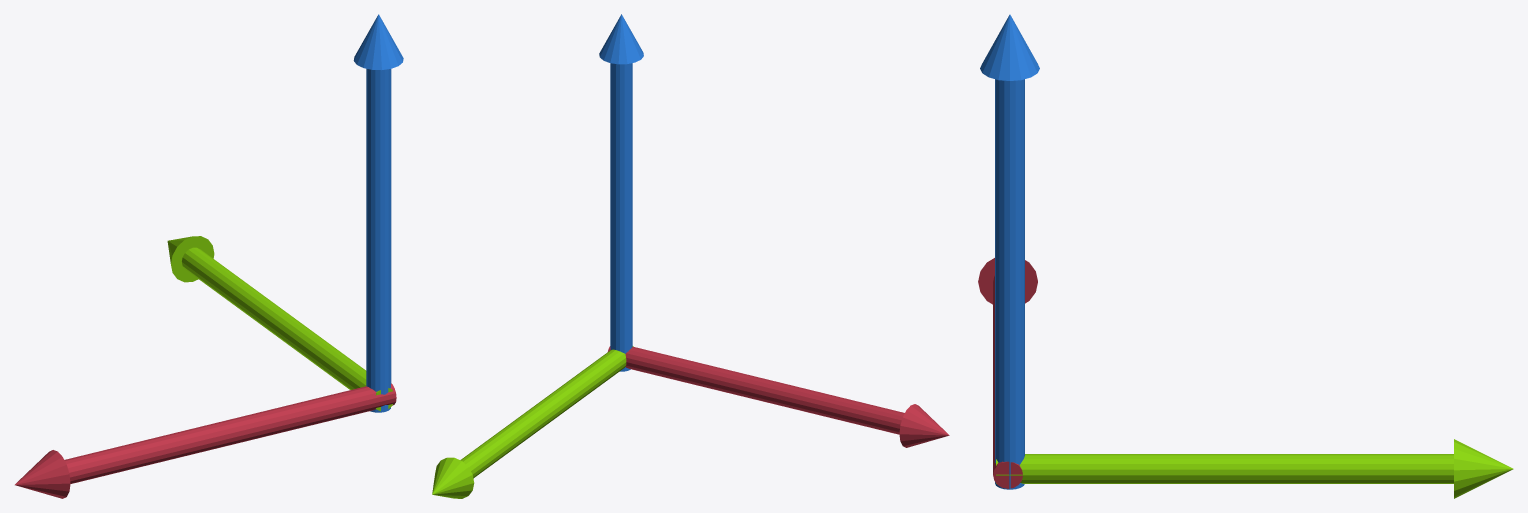
File: Ejes.fbx
The picture shows the model from 3 angles, left to right: view 1: azimuth 30°, elevation 25°; view 2: azimuth 150°, elevation 25°; view 3: azimuth 270°, elevation 25°; orthographic projection. The views are drawn at different scales.
Parts seen in each view (by area): view 1: Z, X, Y; view 2: Z, X, Y; view 3: Y, Z, X.
Boxes of the visible parts, x1,y1,x2,y2 form: Z: (353,14,403,412); X: (15,383,396,498); Y: (167,236,392,411); Z: (599,14,643,371); X: (608,346,949,447); Y: (432,346,633,498); Y: (996,439,1513,498); Z: (980,14,1039,489); X: (978,258,1037,488).
Size of the model in its own units: 887 by 886 by 892.
